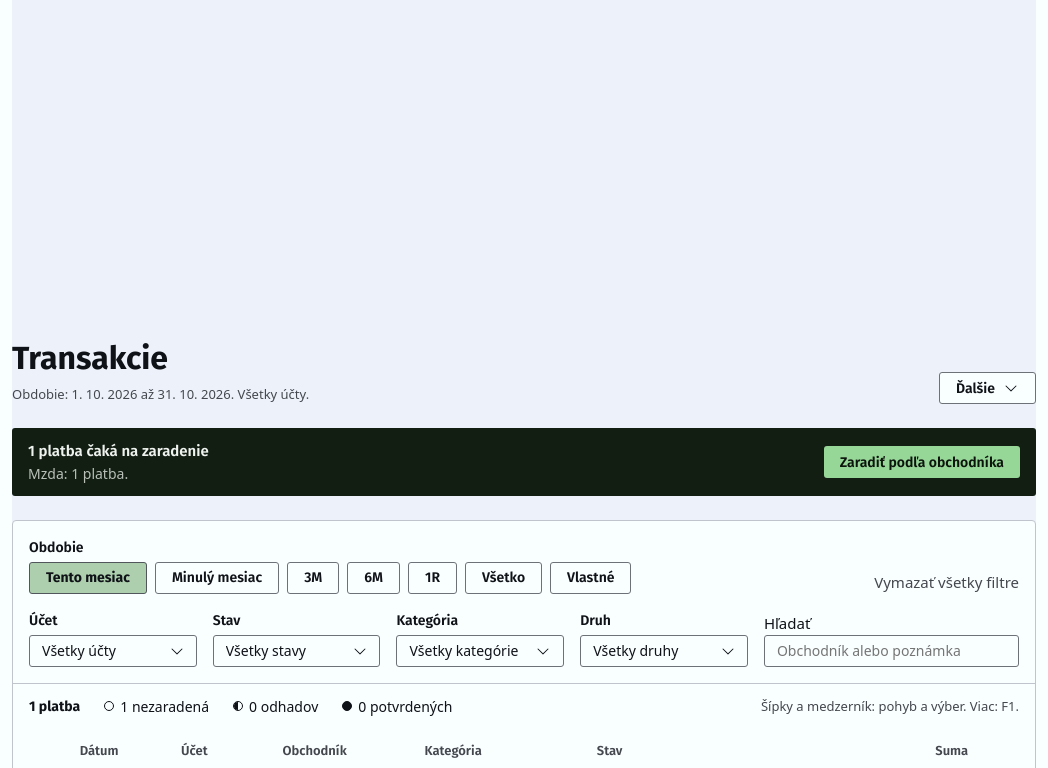
transaction filters, export and sums › shows CSV failure and permits retry
The image size is (1048, 768).
(page scrolled)
Click the button "Ďalšie". click: (988, 388)
box: [939,372,1036,404]
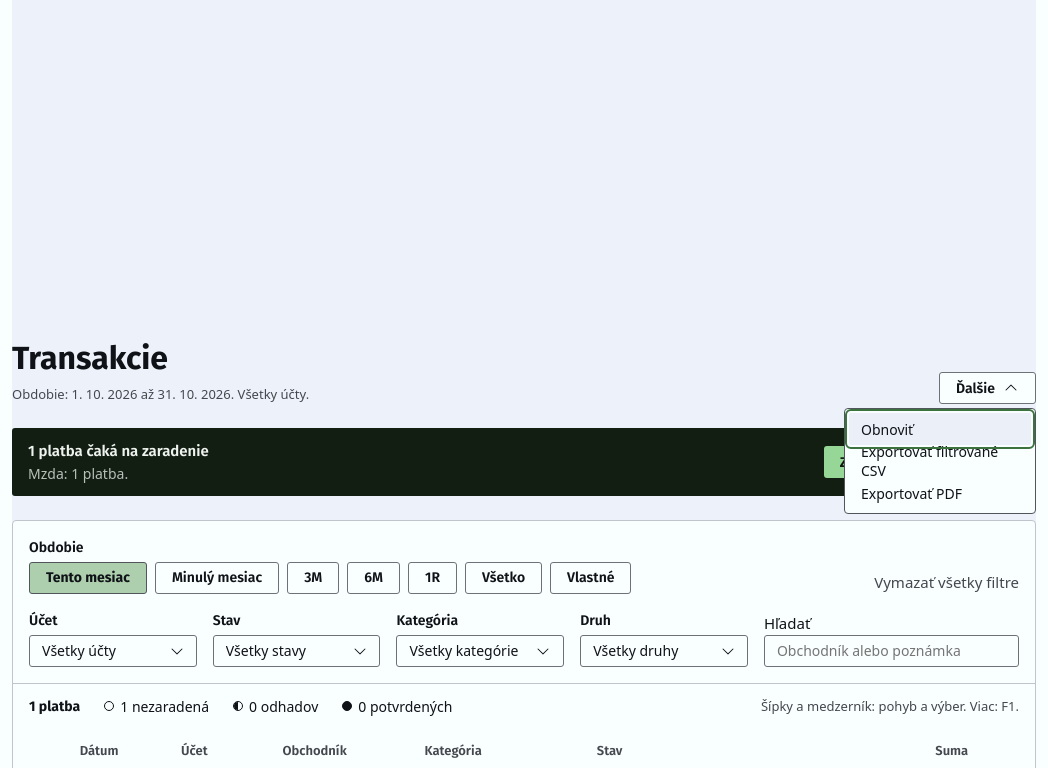
Click the menu item "Exportovať filtrované CSV". click: (940, 461)
box: [849,445,1031,477]
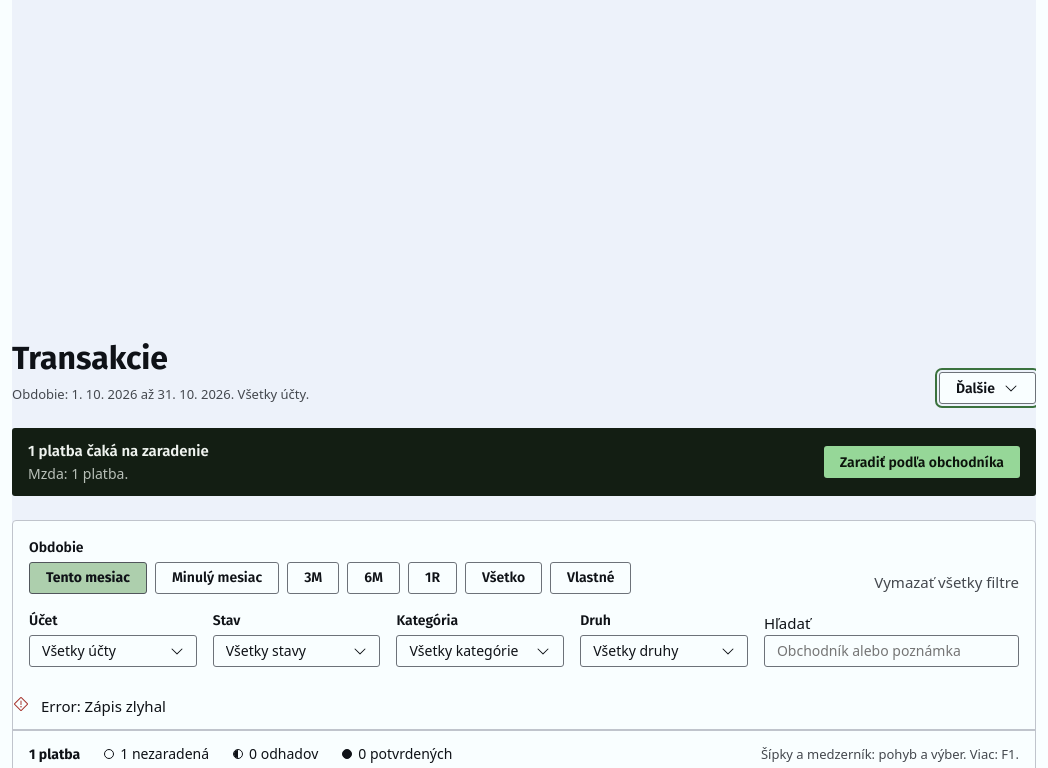
Now the message "Error: Zápis zlyhal" is shown, box [13,683,1035,730]
